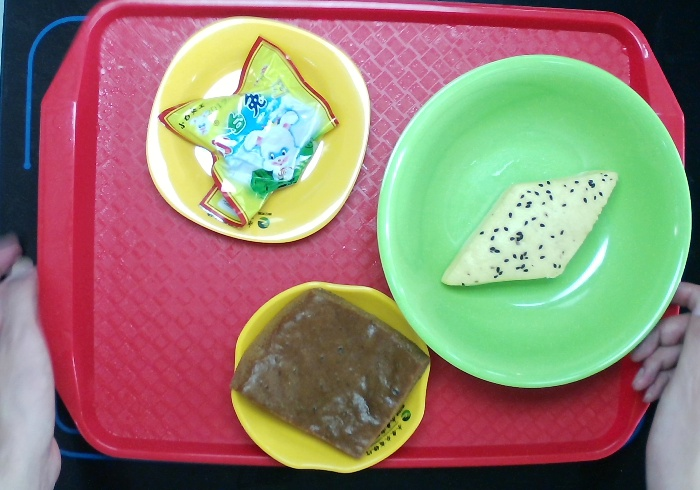YKMZ-Huang_Se_Ao_Bian_Wan: (216, 267, 445, 483)
YKMZ-Huang_Se_Fang_Die: (133, 9, 382, 255)
YKMZ-Lv_Se_Tang_Wan: (362, 43, 700, 396)
